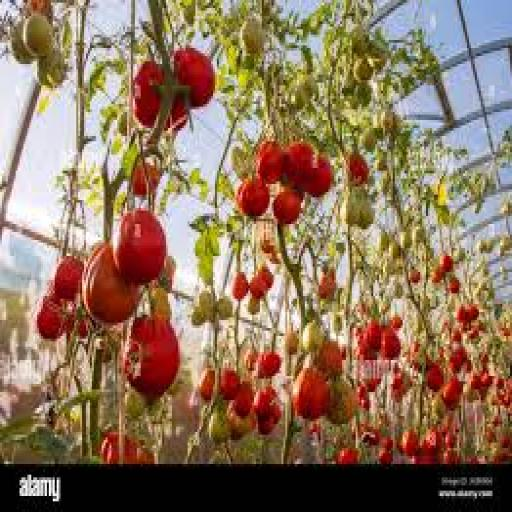tomato: (83, 243, 138, 325), (126, 318, 179, 397), (114, 208, 166, 285), (174, 46, 214, 106), (133, 62, 164, 127), (292, 368, 330, 421), (53, 256, 84, 301), (286, 142, 314, 191), (327, 379, 357, 423), (36, 296, 64, 341), (237, 179, 269, 218), (24, 14, 52, 58), (256, 142, 285, 183), (305, 155, 332, 197), (133, 160, 162, 197), (227, 403, 255, 439), (272, 187, 300, 223), (241, 16, 265, 55), (317, 342, 343, 375), (124, 435, 154, 463), (253, 387, 277, 421), (167, 96, 189, 133), (208, 406, 230, 442), (346, 152, 369, 186), (233, 382, 254, 418), (442, 376, 463, 410), (301, 320, 324, 351), (219, 368, 240, 399), (256, 352, 281, 378), (65, 312, 89, 338), (364, 320, 383, 351), (382, 328, 400, 359), (198, 368, 214, 402), (401, 430, 420, 458), (319, 270, 336, 301), (231, 272, 248, 301), (249, 275, 267, 301), (427, 363, 443, 391), (423, 430, 441, 453), (258, 264, 273, 290), (337, 448, 359, 463), (243, 350, 257, 373), (286, 328, 298, 354), (258, 416, 275, 434), (456, 304, 469, 325), (430, 267, 445, 285), (440, 254, 453, 274), (448, 275, 461, 293), (378, 448, 392, 463), (389, 315, 402, 330), (409, 270, 422, 285), (468, 304, 478, 322), (470, 374, 480, 391), (382, 438, 394, 450)
